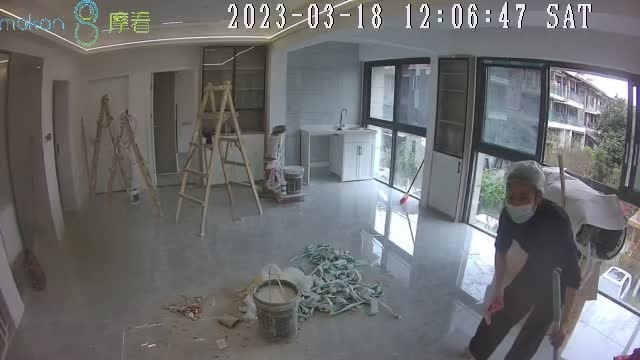people: (469, 164, 582, 360)
window: (473, 61, 640, 257), (364, 62, 427, 198)
